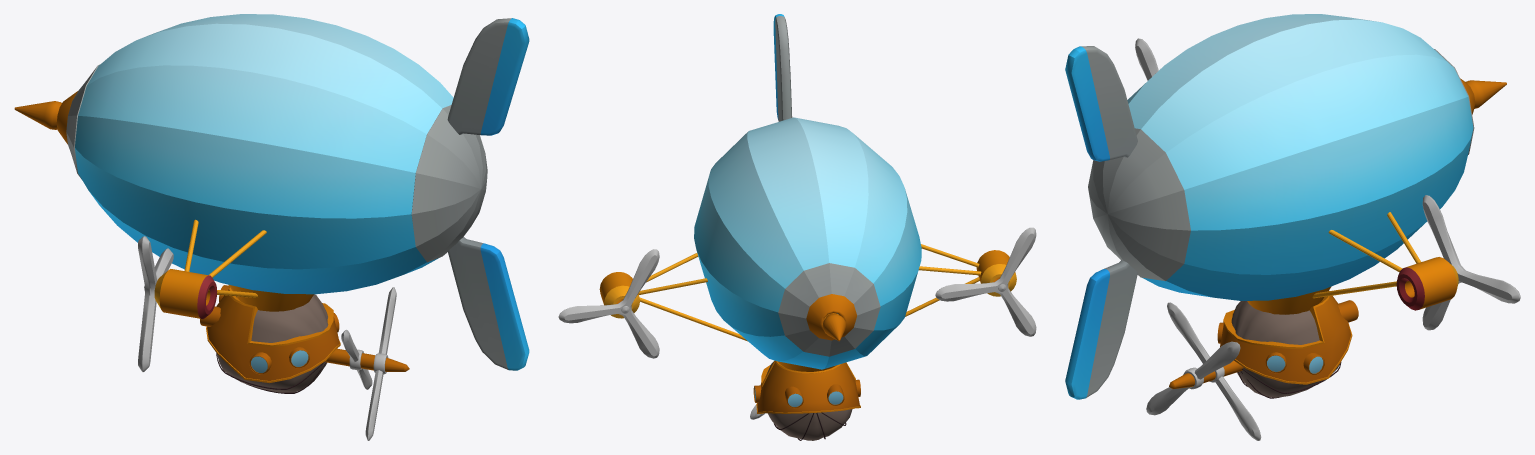
The model's file is Contact_Us.glb.
The picture shows the model from 3 angles, left to right: view 1: azimuth 30°, elevation 25°; view 2: azimuth 150°, elevation 25°; view 3: azimuth 270°, elevation 25°; orthographic projection. The views are drawn at different scales.
Visible parts, largest first — view 1: AirShip.005, Propeller_F_L.003, Propeller_R_R.003, Propeller_R_F.003; view 2: AirShip.005, Propeller_F_L.003, Propeller_F_R.003; view 3: AirShip.005, Propeller_F_R.003, Propeller_R_F.003, Propeller_R_R.003, Propeller_F_L.003.
Boxes of the visible parts, left/top/right/bottom form: AirShip.005: left=14, top=14, right=529, bottom=393; Propeller_F_L.003: left=138, top=236, right=173, bottom=371; Propeller_R_R.003: left=365, top=287, right=396, bottom=440; Propeller_R_F.003: left=341, top=329, right=372, bottom=389; AirShip.005: left=599, top=14, right=1016, bottom=440; Propeller_F_L.003: left=935, top=227, right=1036, bottom=336; Propeller_F_R.003: left=558, top=249, right=659, bottom=358; AirShip.005: left=1065, top=14, right=1506, bottom=399; Propeller_F_R.003: left=1422, top=195, right=1520, bottom=330; Propeller_R_F.003: left=1167, top=302, right=1261, bottom=440; Propeller_R_R.003: left=1146, top=341, right=1240, bottom=415; Propeller_F_L.003: left=1135, top=38, right=1158, bottom=80.
Bounding box in the file's own units: 0.9712 × 0.9799 × 0.9624.
3 materials, 2 textured.
